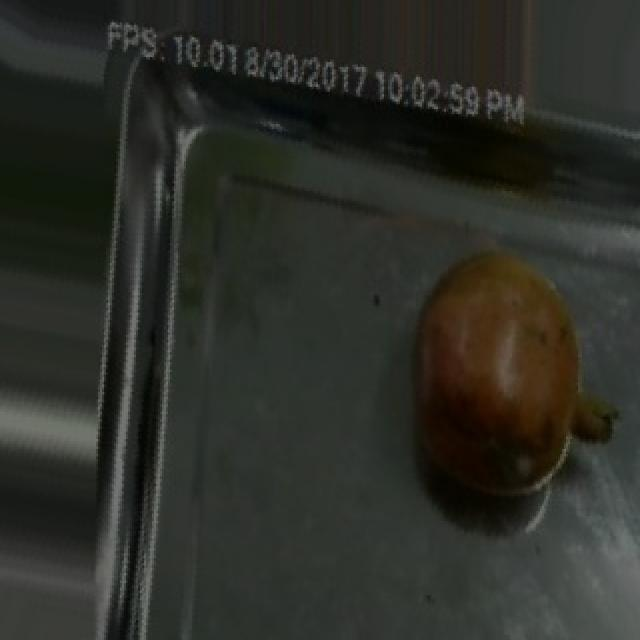fruit: (392, 223, 632, 506)
